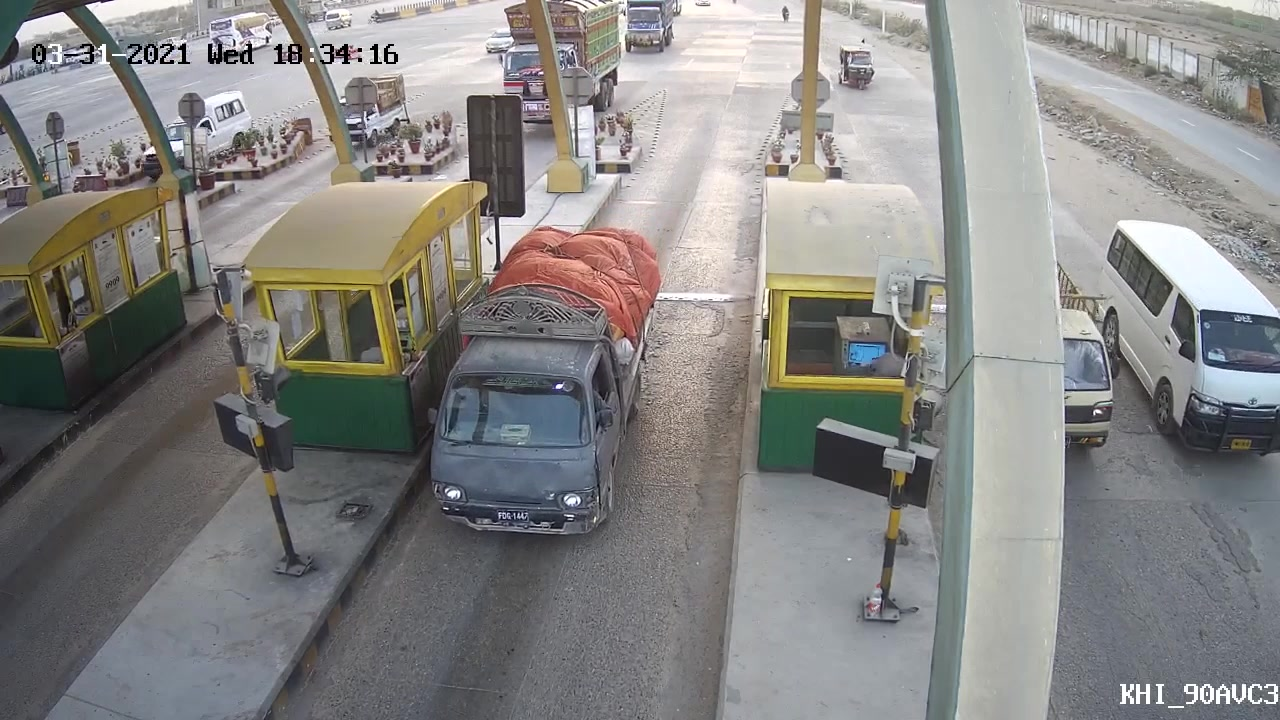F2: (423, 229, 676, 549)
